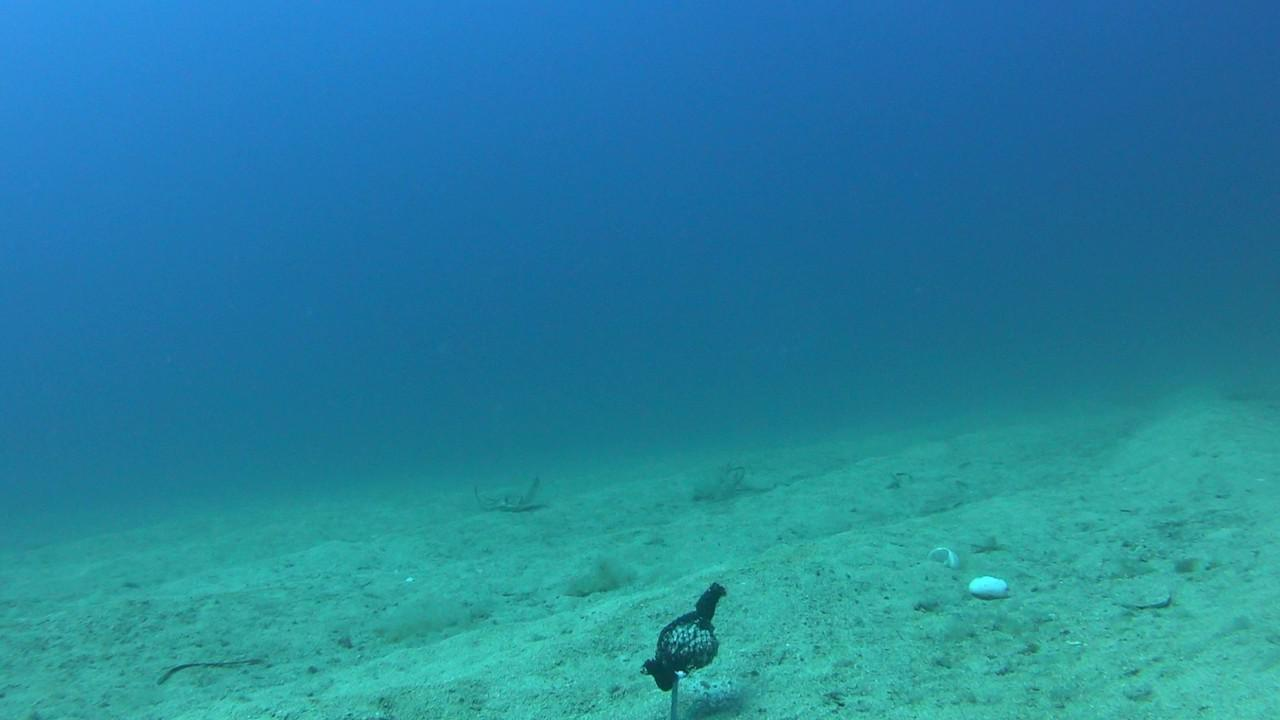myliobatis: (461, 458, 570, 525)
